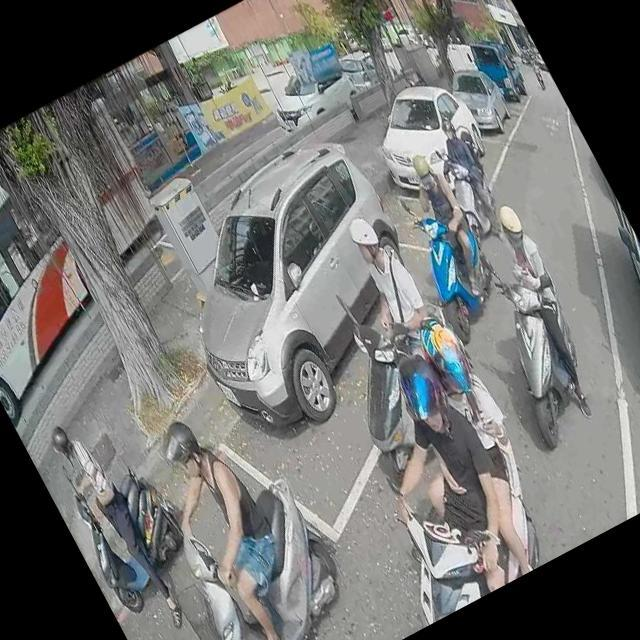person: (362, 310, 568, 592), (330, 348, 542, 616), (127, 397, 329, 640), (38, 406, 189, 636), (468, 194, 617, 422), (383, 137, 499, 306), (330, 207, 447, 367), (429, 111, 514, 232)
